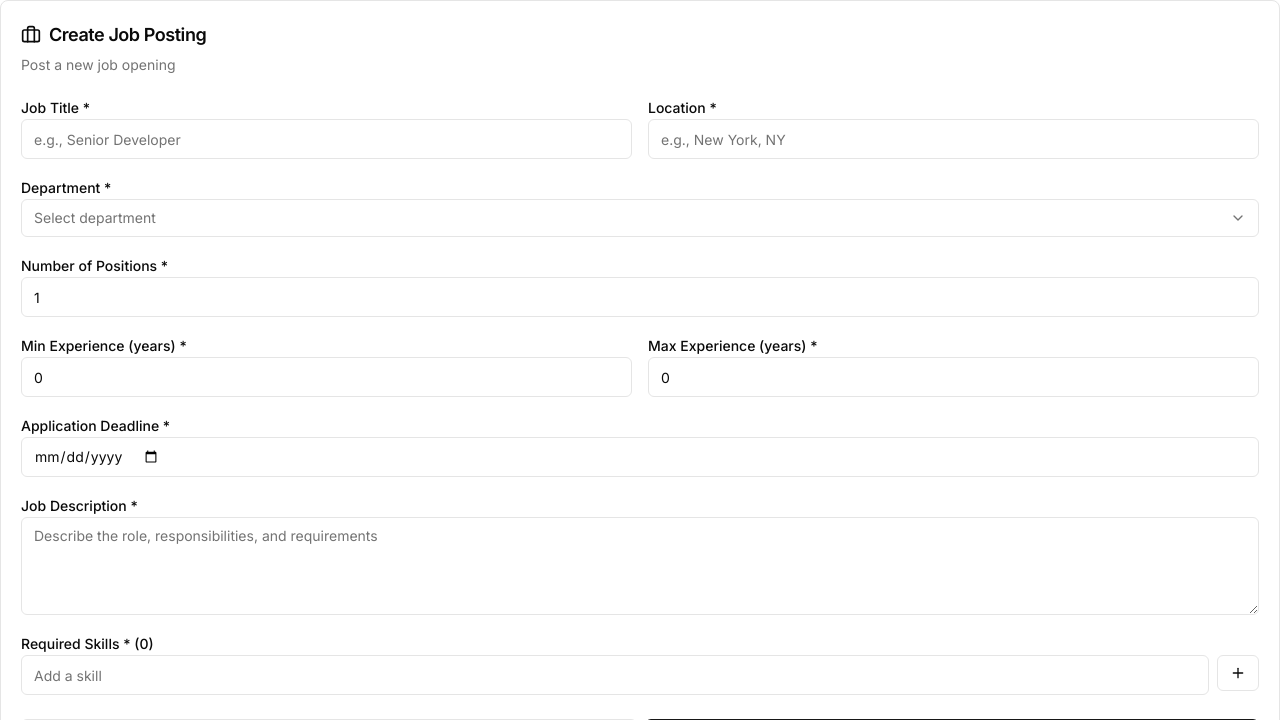
Test: JobPostingForm › Skills Management › adds skill on Enter key press
Type "JavaScript" into the field with placeholder "Add a skill" at (615, 675), box [21, 655, 1209, 695]
Then press Enter
(page scrolled)
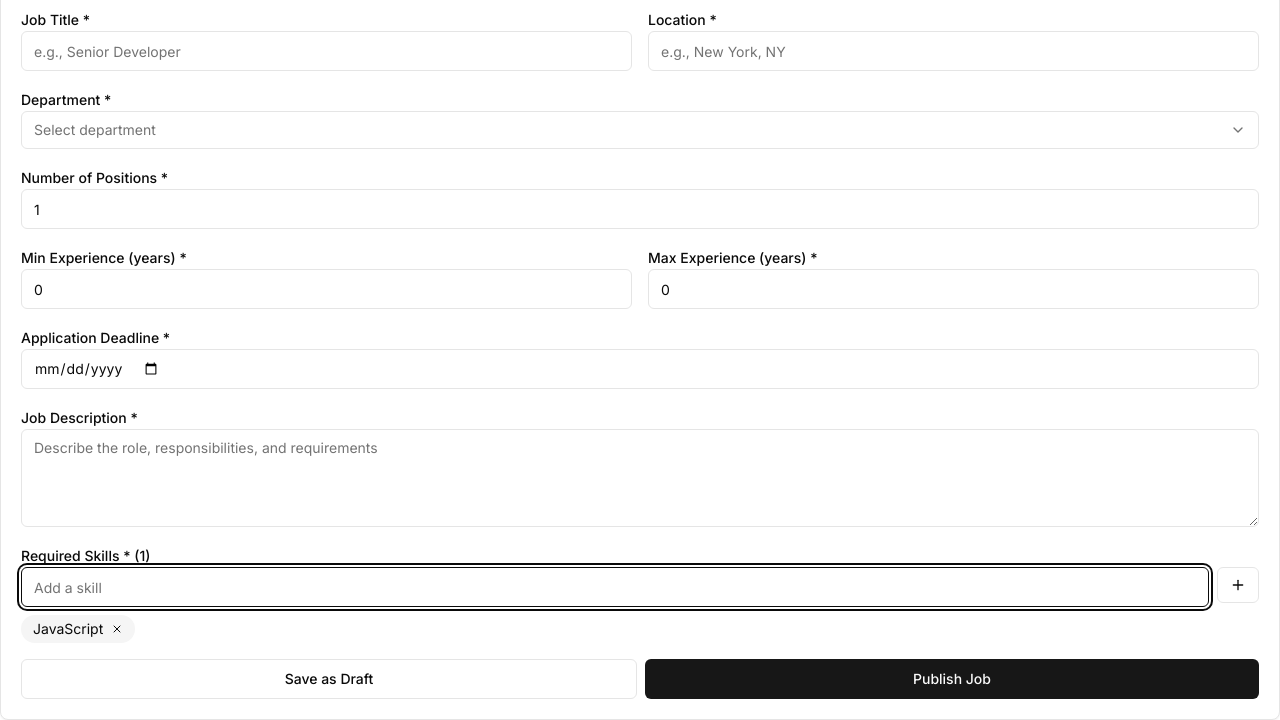
Now the text "JavaScript" is shown, box [21, 615, 135, 643]
